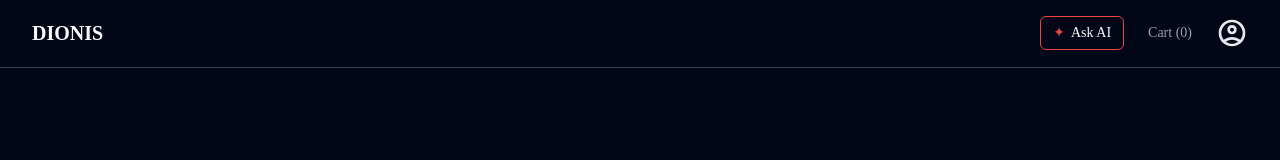
<MainNavigation /> › Should show Login and Sign Up in the account menu when signed out
The image size is (1280, 160).
Click the button with test id "account-menu-trigger".
click(1232, 33)  # box [1216, 17, 1248, 49]
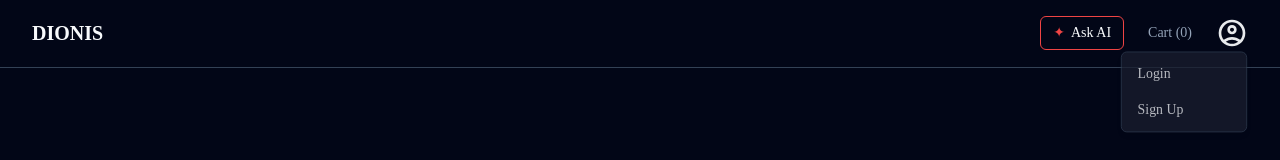
Expected: the menu item "Login" is shown, [1137, 68, 1170, 83]
Expected: the menu item "Sign Up" is shown, [1137, 104, 1183, 119]
